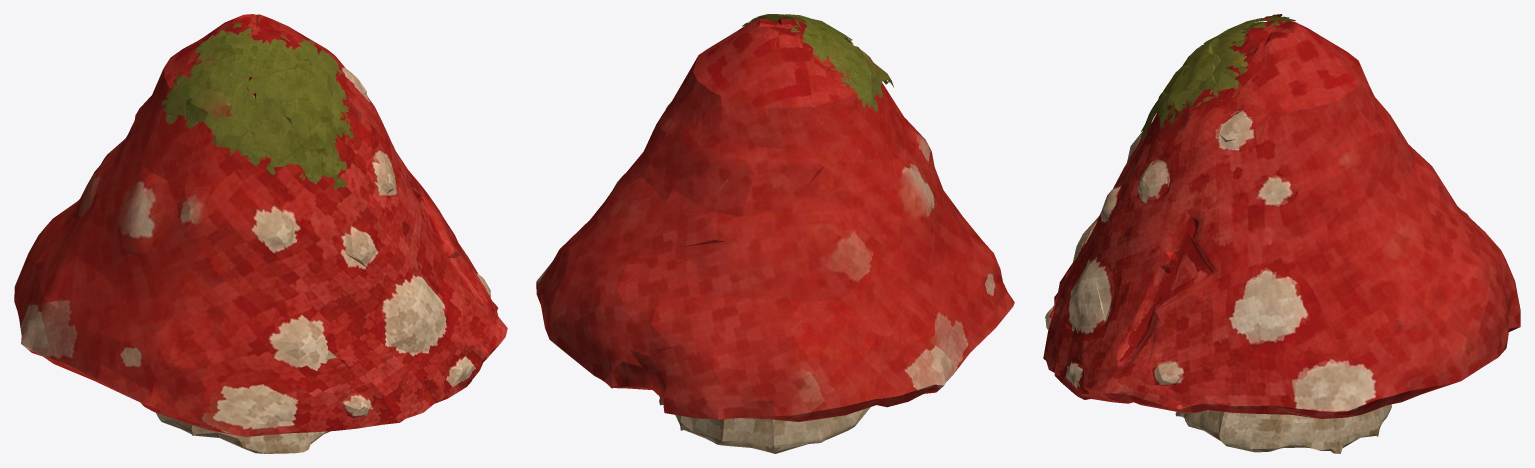
Rendered from HatMushroom.fbx.
3 renders of one model, left to right at view 1: azimuth 30°, elevation 25°; view 2: azimuth 150°, elevation 25°; view 3: azimuth 270°, elevation 25°, orthographic.
Visible parts, largest first — view 1: output_unwrapped; view 2: output_unwrapped; view 3: output_unwrapped.
Boxes of the visible parts, x1,y1,x2,y2 form: output_unwrapped: (14,14,507,453); output_unwrapped: (536,14,1014,453); output_unwrapped: (1043,14,1520,453).
Bounding box in the file's own units: 93.7 × 87.11 × 95.21.
1 material, 1 textured.
